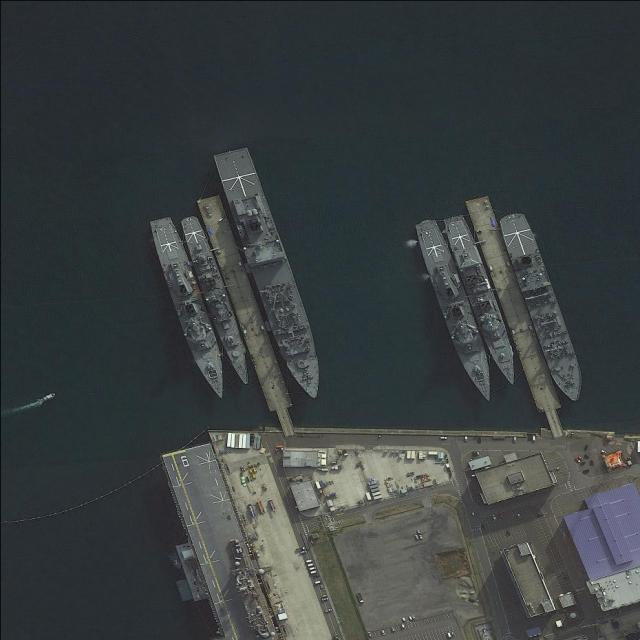Auxiliary Ships: (213, 144, 332, 403), (497, 209, 588, 405)
Destroyer: (142, 213, 237, 402), (408, 214, 502, 405), (438, 214, 525, 389), (175, 210, 259, 389)
Dock: (465, 190, 567, 436), (199, 193, 298, 434)
